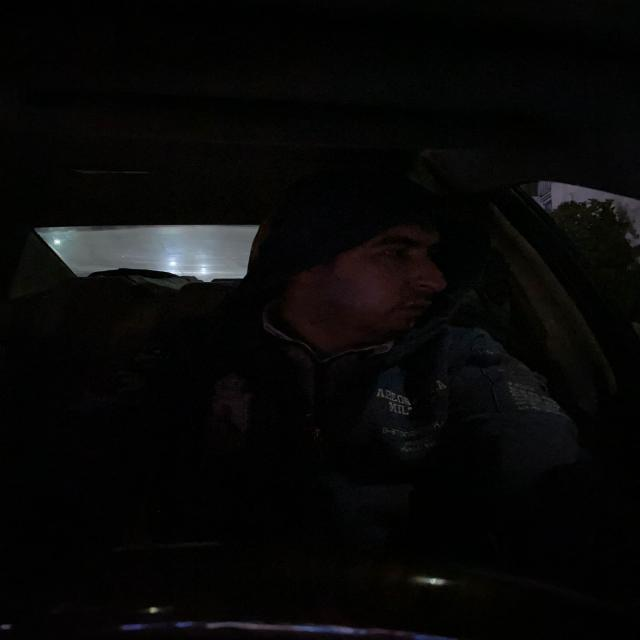LeftRight: (249, 164, 471, 349)
